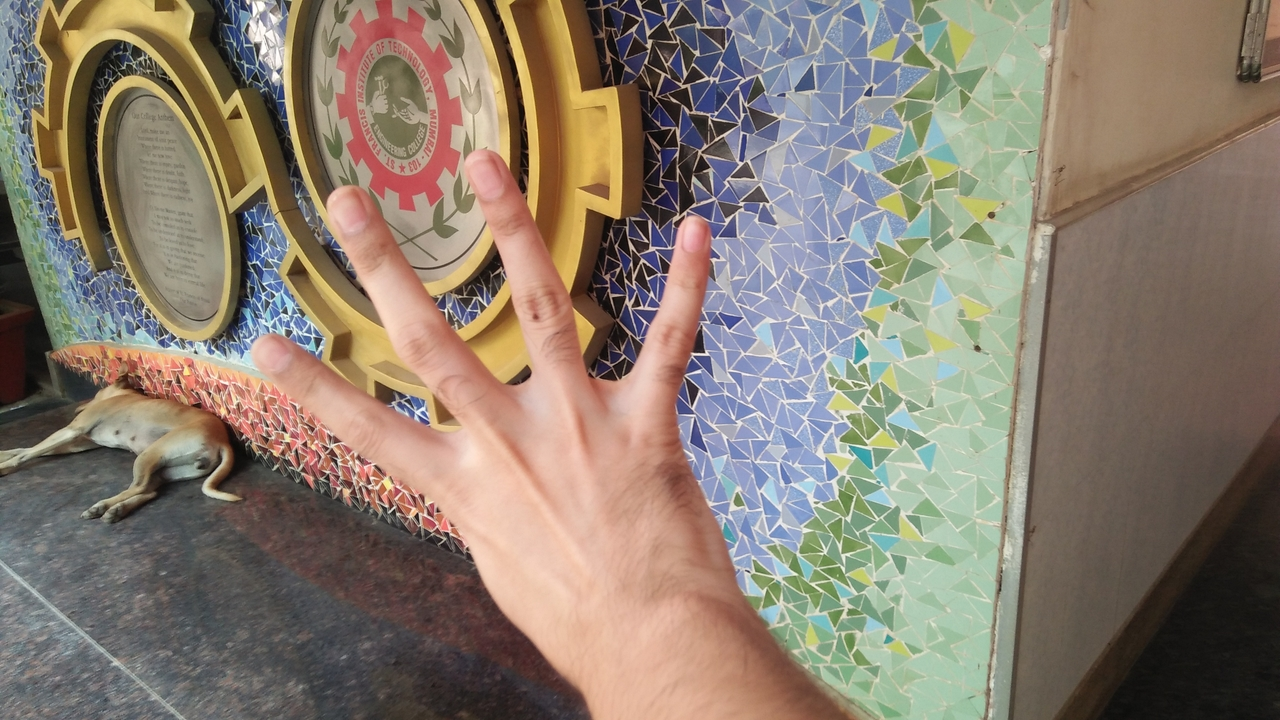fingertip: (452, 140, 522, 210), (232, 328, 308, 380), (320, 178, 380, 240), (668, 206, 720, 262)
